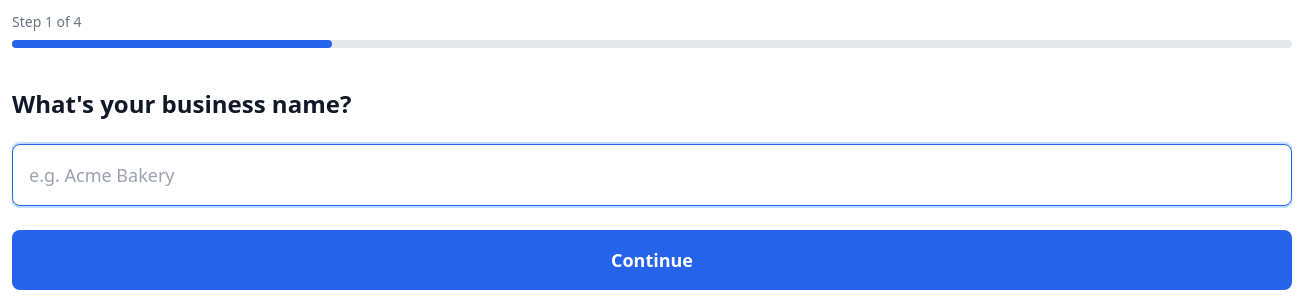
Test case: BusinessIntroWizard › shows a progress indicator that advances with each step
This screenshot has width=1304, height=307.
Check: the text "Step 1 of 4" is shown, box [12, 12, 82, 31]
Type "Acme Bakery" into the field with placeholder "e.g. Acme Bakery" at (652,175), box [12, 144, 1292, 206]
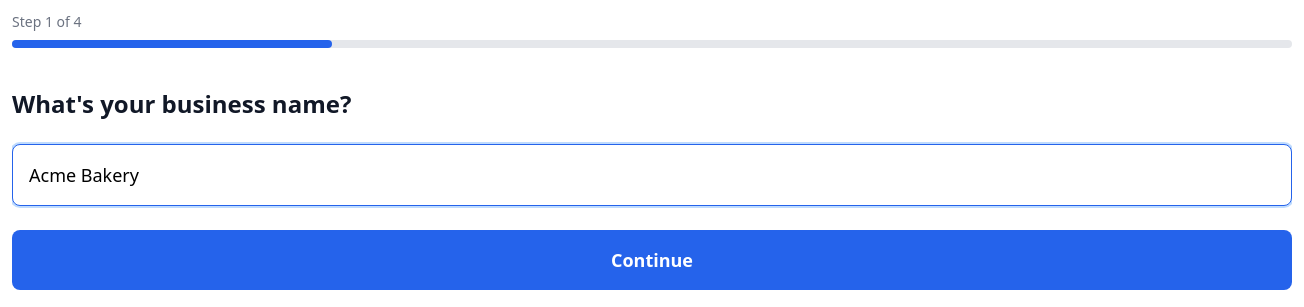
Click the button "Continue" at (652,260), box [12, 230, 1292, 290]
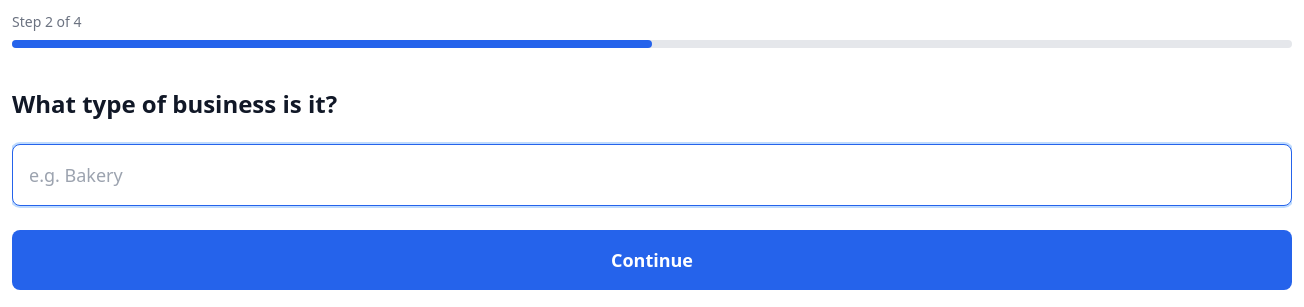
Check: the text "Step 2 of 4" is shown, box [12, 12, 82, 31]
